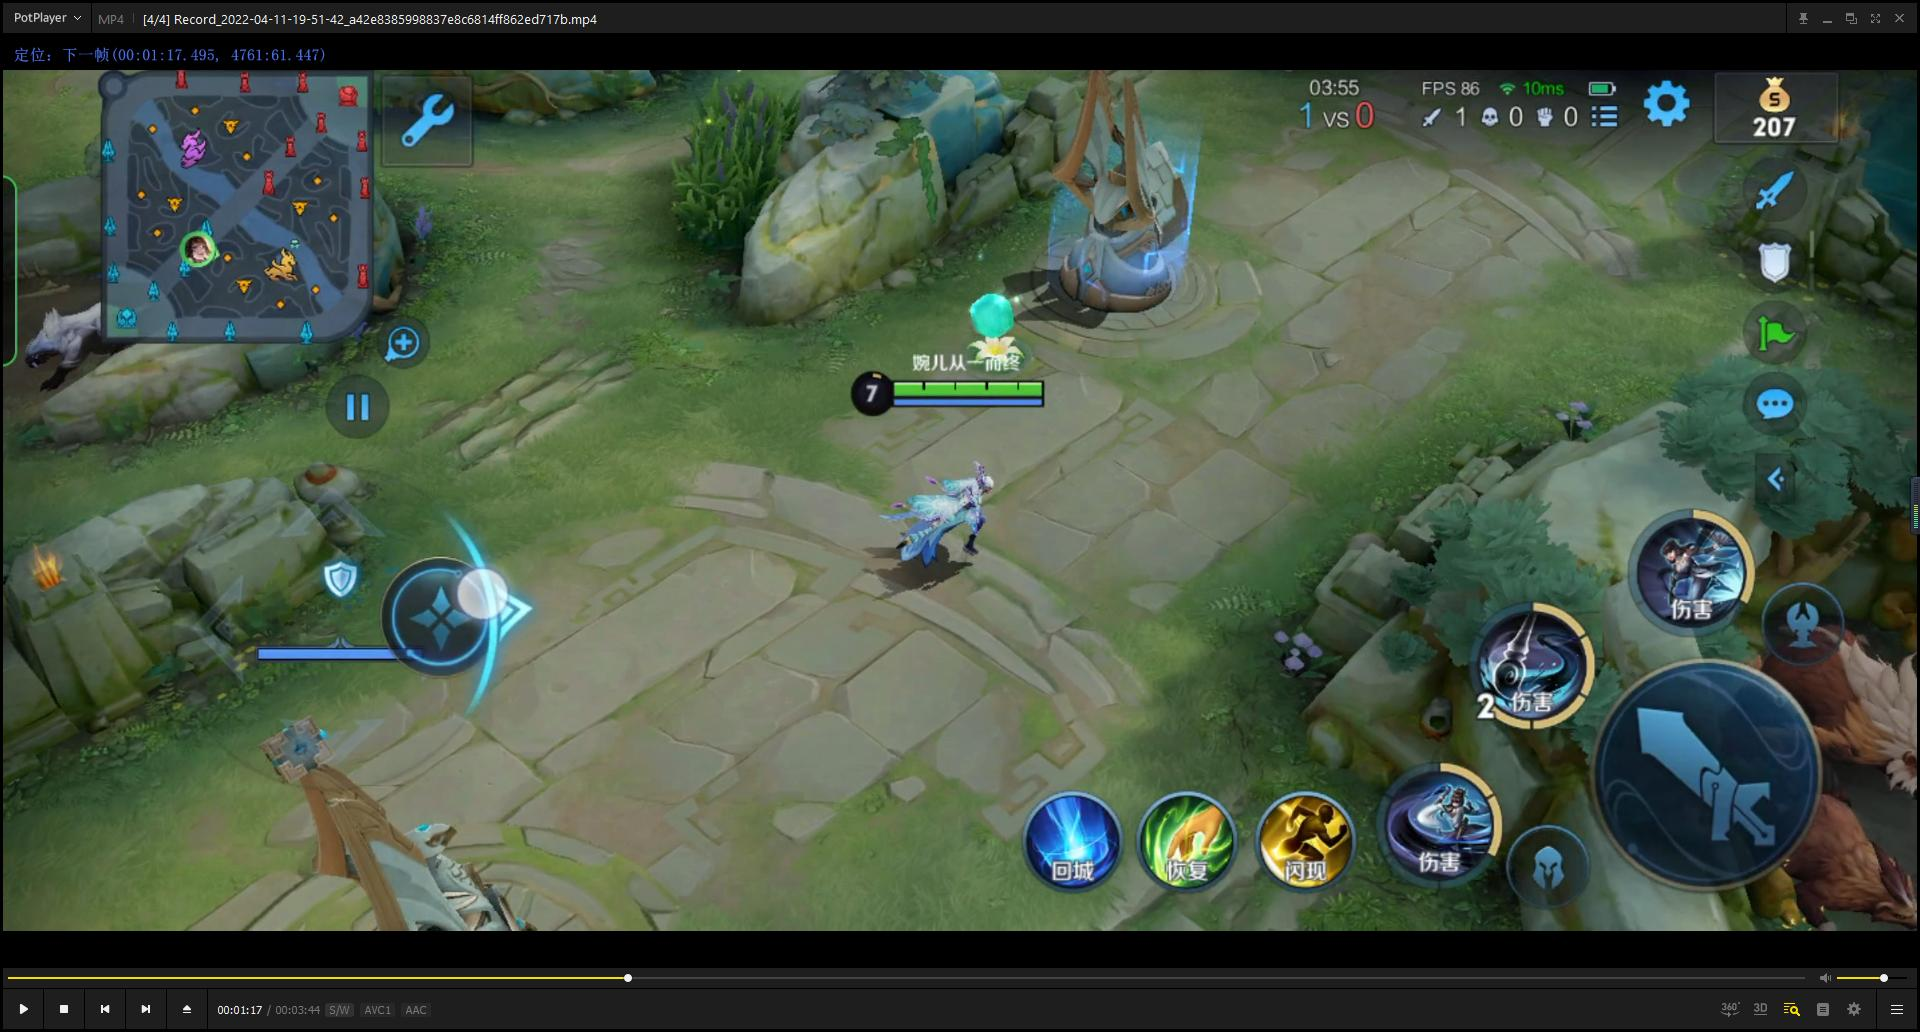Hero: (865, 452, 1019, 600)
Pig: (1751, 602, 1920, 793), (1740, 777, 1920, 923)
Tower: (220, 578, 577, 932), (1020, 66, 1222, 339)
Wolf: (6, 290, 130, 423)
